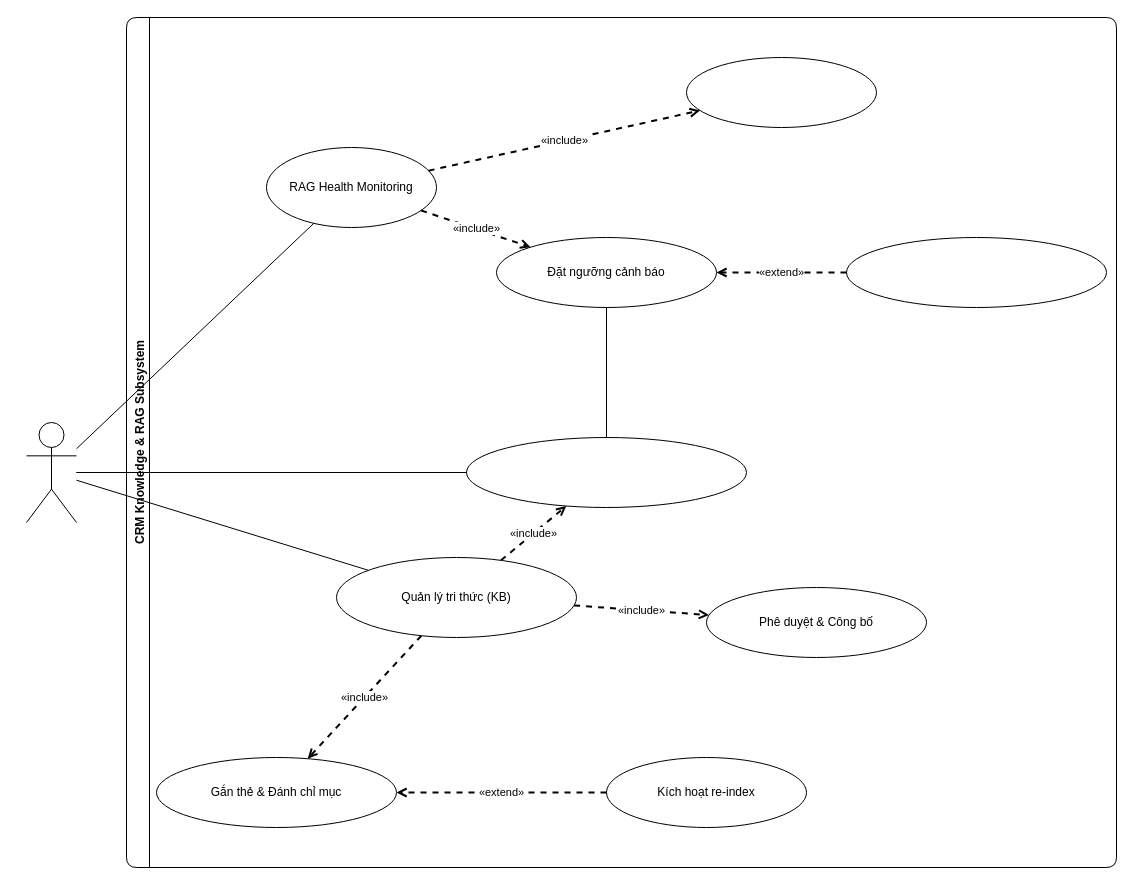
Some shapes in this 1134 by 885 pixel diagram are drawn without their labels. Each missing label, with the box of its shape:
Quản trị viên: (26, 422, 76, 522)
Sinh cảnh báo bất thường: (846, 236, 1106, 308)
Tạo/Chỉnh sửa/Xóa bài viết: (466, 436, 746, 508)
Xem chỉ số RAG: (686, 56, 876, 128)
